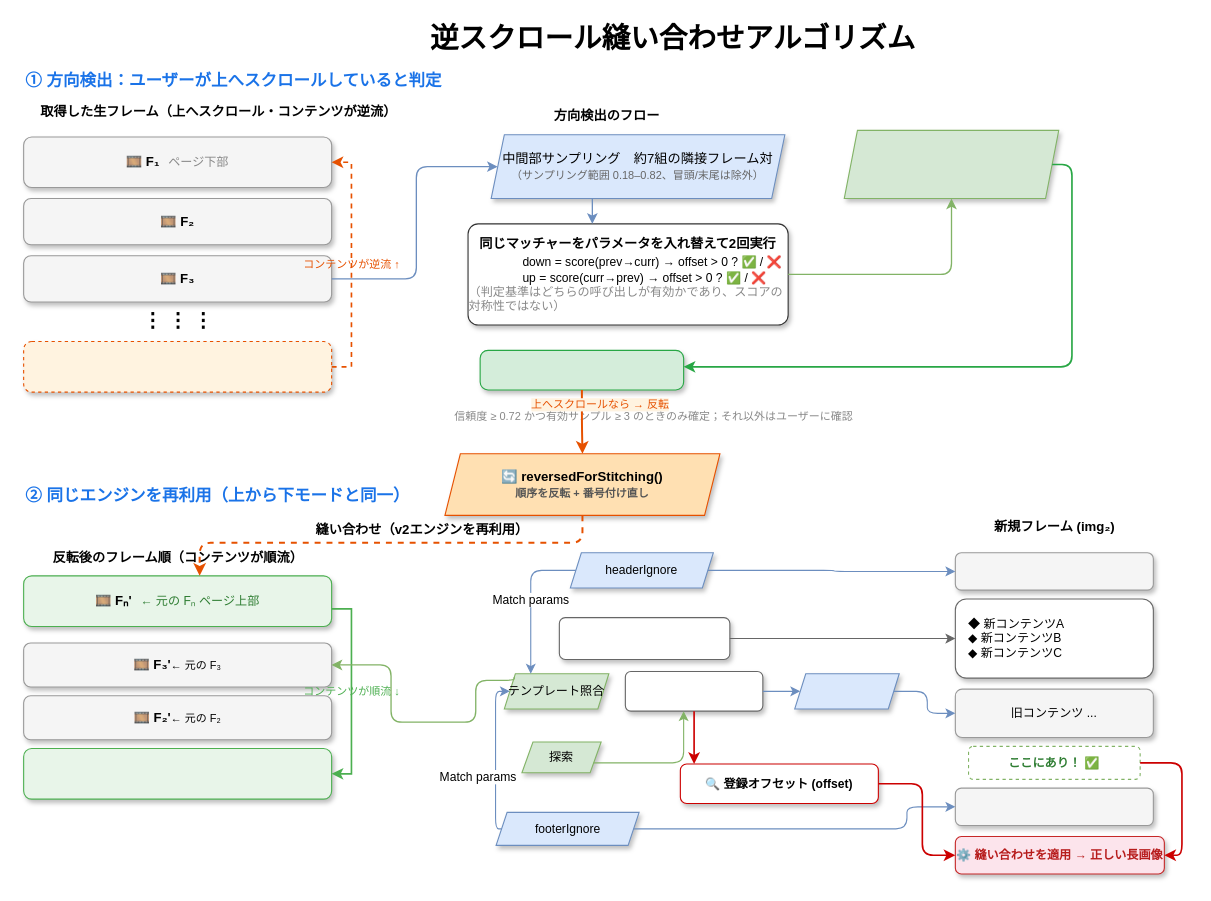
Image size: 1211x901. Some labels were removed from this diagram. The centre of each missing label's shape, as x and y in pixels:
⊞ Tab Bar: the point at 1055,808
✅ 判定：上へスクロール: the point at 582,371
投票で判定 upVotes ≥ downVotes + 2 かつ upScore ≥ downScore × 1.25: the point at 952,165
探索範囲: the point at 847,692
等間隔フレーム抽出 + 鮮明化: the point at 645,639
🎞️ F₁' ← 元の F₁ ページ下部: the point at 178,775
🎞️ Fₙ ページ上部: the point at 178,368
🎬 ステータスバー / ナビゲーション: the point at 1055,572
🔍 探索 & 登録: the point at 694,692
